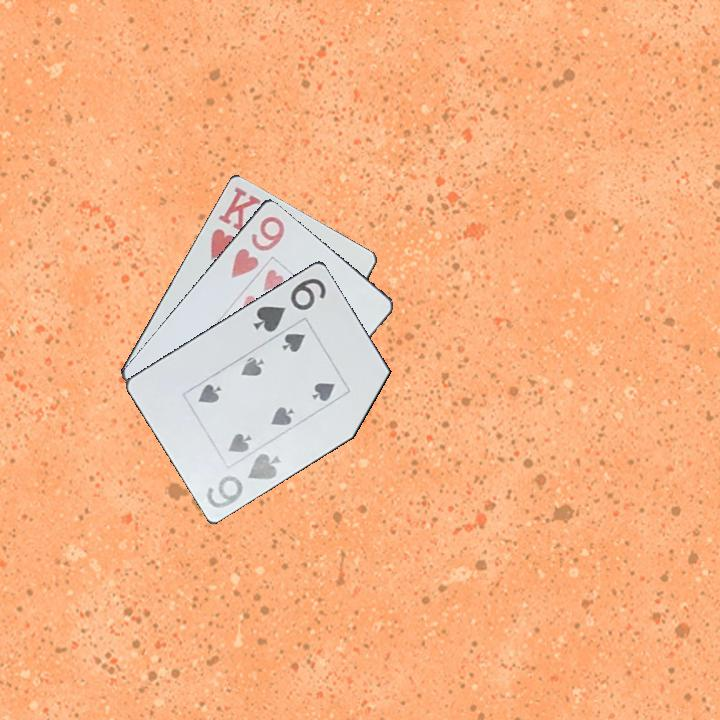6s: (203, 449, 284, 511), (249, 274, 329, 335)
9h: (224, 212, 288, 281)
Kh: (207, 183, 264, 264)
